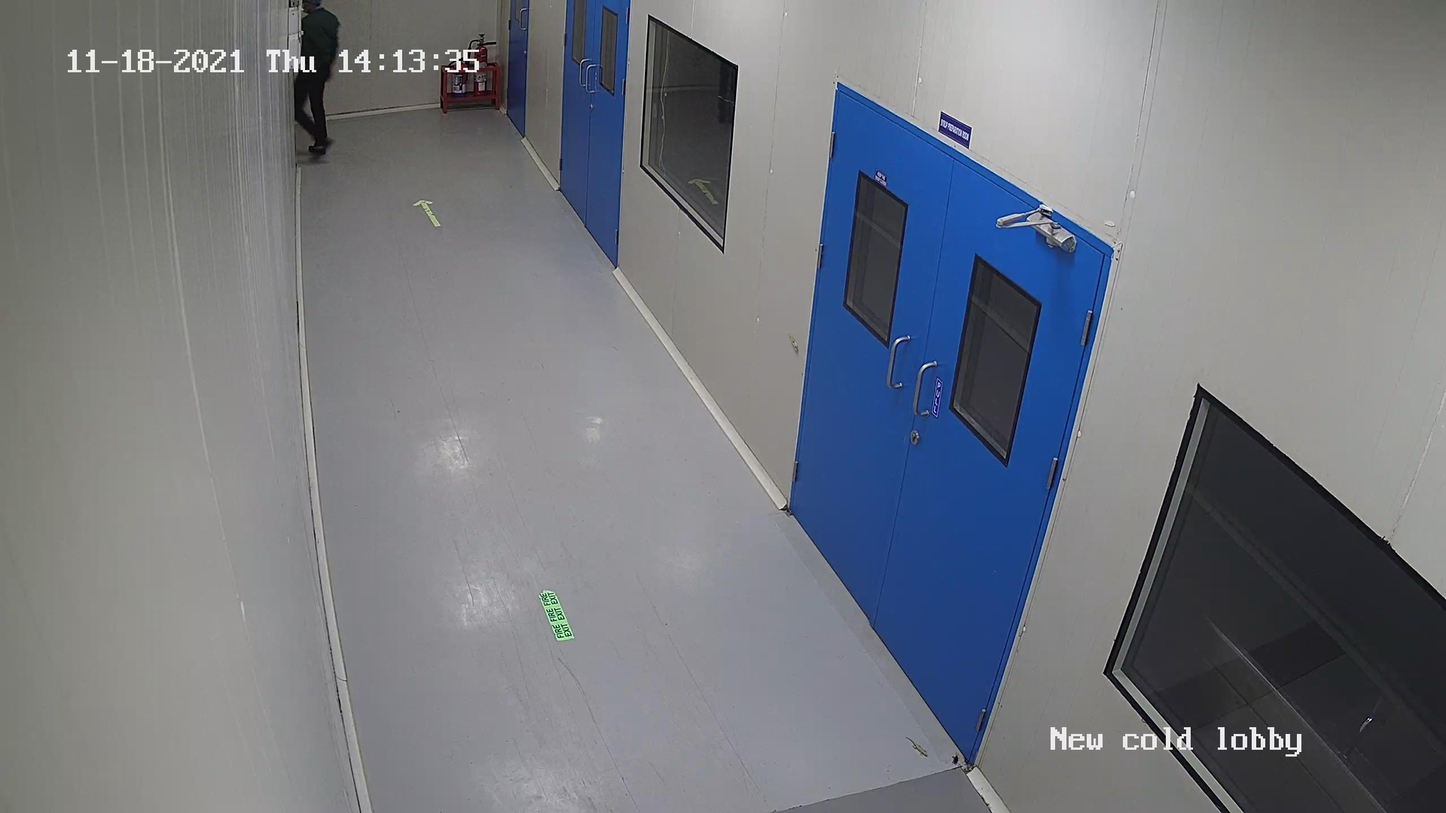cockroach: (948, 749, 963, 769)
lizard: (903, 733, 930, 761), (783, 330, 802, 357)
